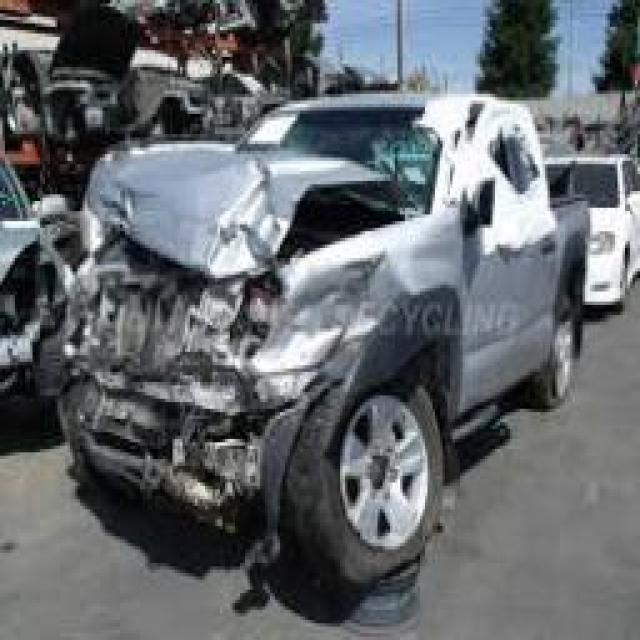Bonnet: (85, 137, 440, 271)
Bumper: (38, 368, 326, 534)
Fender: (276, 202, 467, 444)
